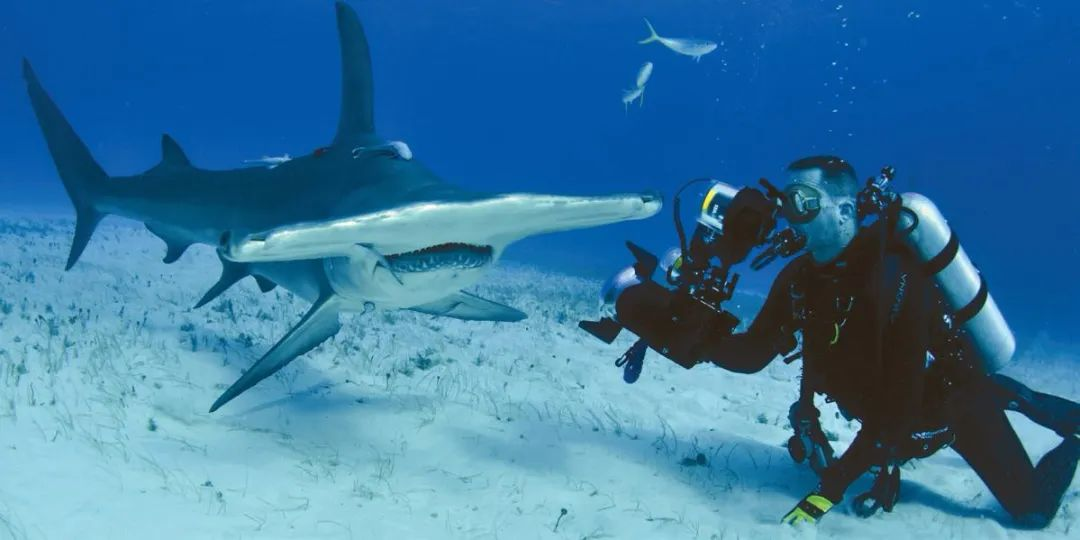shark: (1, 1, 672, 416)
